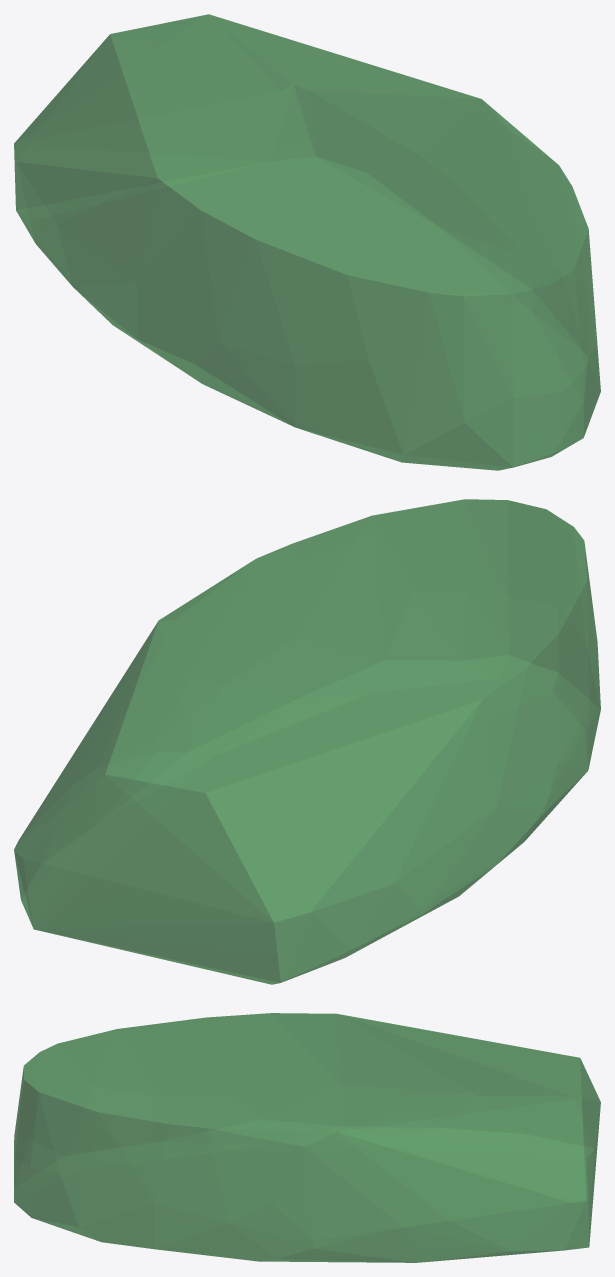
The picture shows the model from 3 angles, top to bottom: view 1: azimuth 30°, elevation 25°; view 2: azimuth 150°, elevation 25°; view 3: azimuth 270°, elevation 25°; orthographic projection. The views are drawn at different scales.
Visible parts, largest first — view 1: Shape_IndexedFaceSet.003_Shape_IndexedFaceSet.7489; view 2: Shape_IndexedFaceSet.003_Shape_IndexedFaceSet.7489; view 3: Shape_IndexedFaceSet.003_Shape_IndexedFaceSet.7489.
Part boxes in pixels (<box>): Shape_IndexedFaceSet.003_Shape_IndexedFaceSet.7489: <box>14,14,600,470</box>; Shape_IndexedFaceSet.003_Shape_IndexedFaceSet.7489: <box>14,499,600,984</box>; Shape_IndexedFaceSet.003_Shape_IndexedFaceSet.7489: <box>14,1013,600,1262</box>.
Size of the model in its own units: 0.4716 by 0.2221 by 0.8922.
